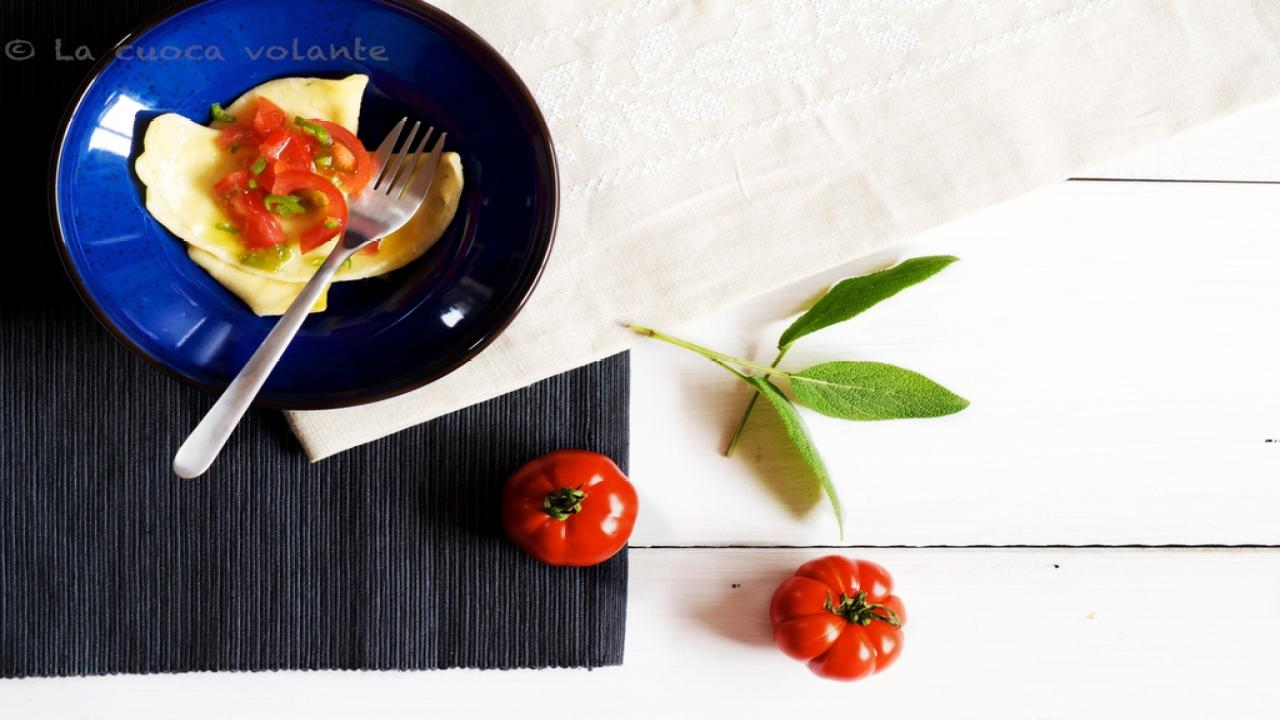fork: (171, 114, 450, 483)
